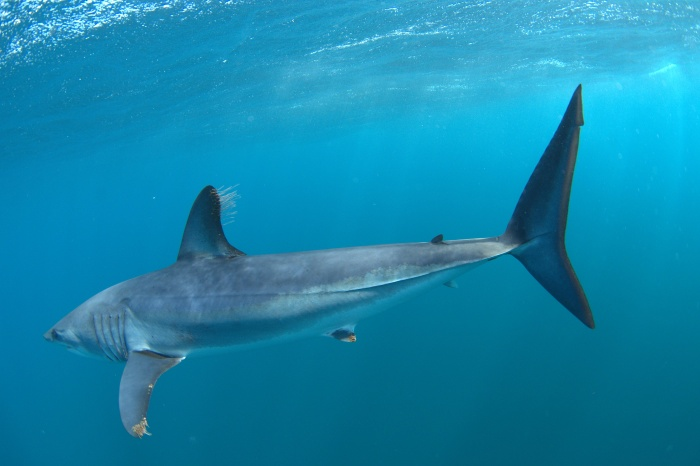Mako: (31, 78, 622, 444)
